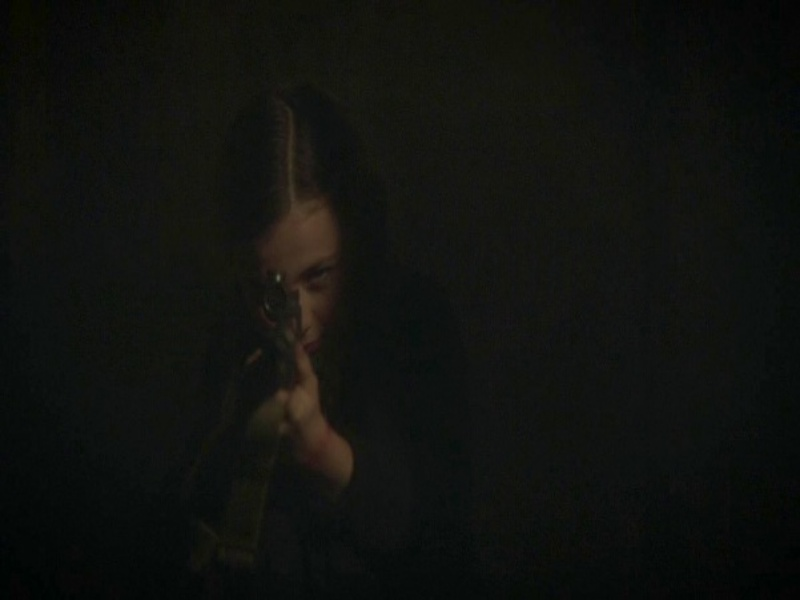person: (157, 85, 491, 596)
weapon: (251, 271, 300, 408)
